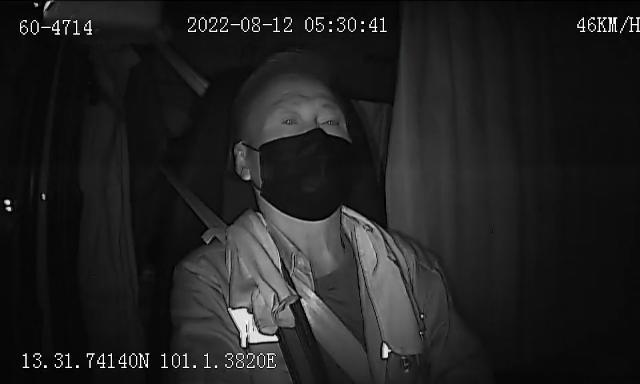Seatbelt: (160, 164, 374, 384)
